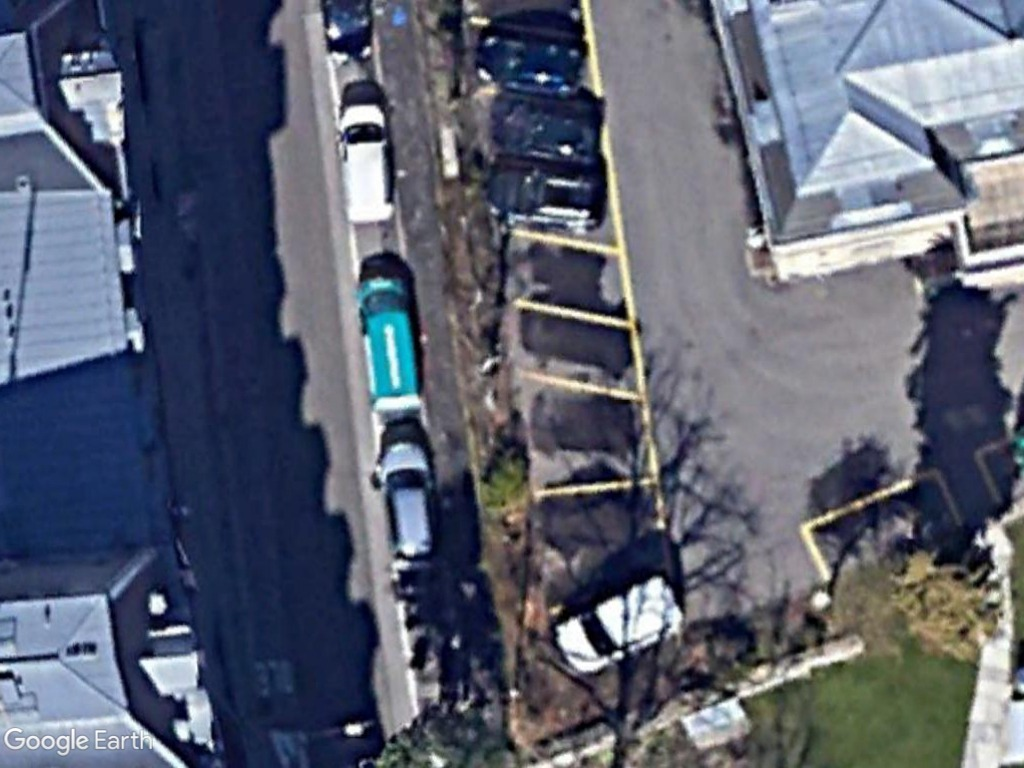car: (377, 440, 440, 569)
van: (552, 575, 689, 677), (351, 275, 427, 414), (336, 98, 399, 228)
